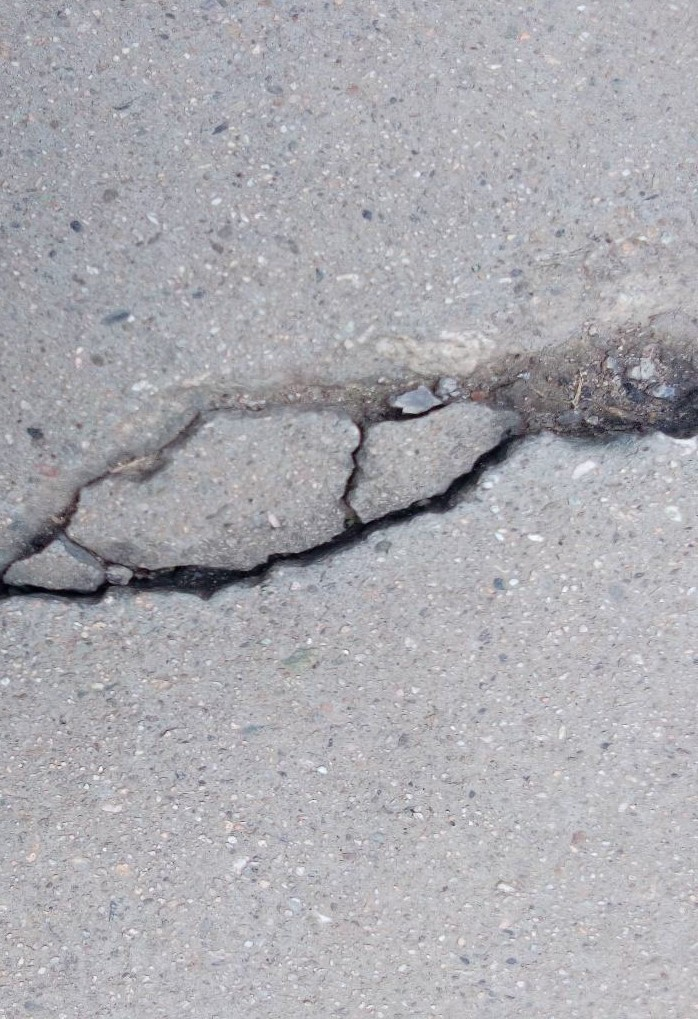Spalling: (1, 320, 698, 606)
